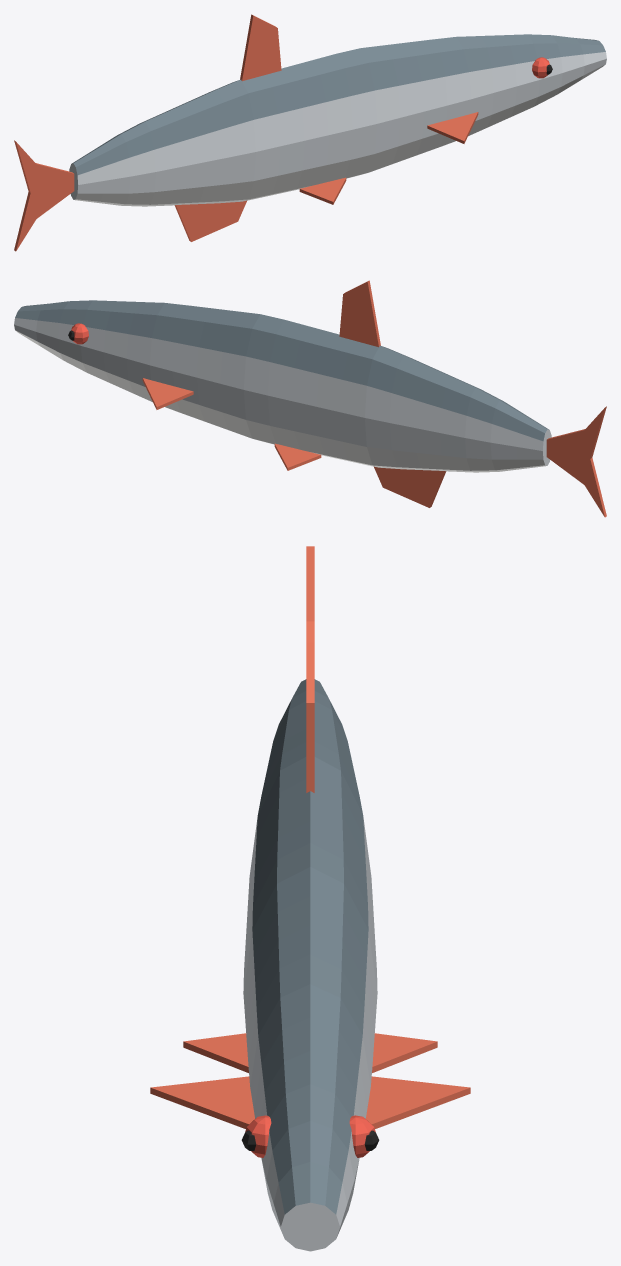
The model's file is rotauge.glb.
3 renders of one model, top to bottom at view 1: azimuth 30°, elevation 25°; view 2: azimuth 150°, elevation 25°; view 3: azimuth 270°, elevation 25°, orthographic. The views are drawn at different scales.
Parts seen in each view (by area): view 1: rotauge; view 2: rotauge; view 3: rotauge.
Boxes of the visible parts, x1,y1,x2,y2 form: rotauge: (14, 14, 606, 251); rotauge: (14, 280, 606, 517); rotauge: (150, 546, 470, 1251).
Size of the model in its own units: 1 by 0.3454 by 0.2373.
